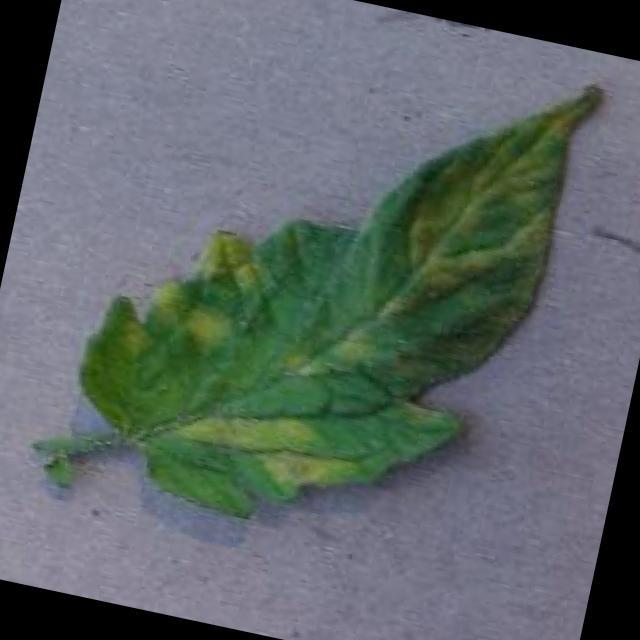Tomato mold leaf: (57, 0, 600, 570)
